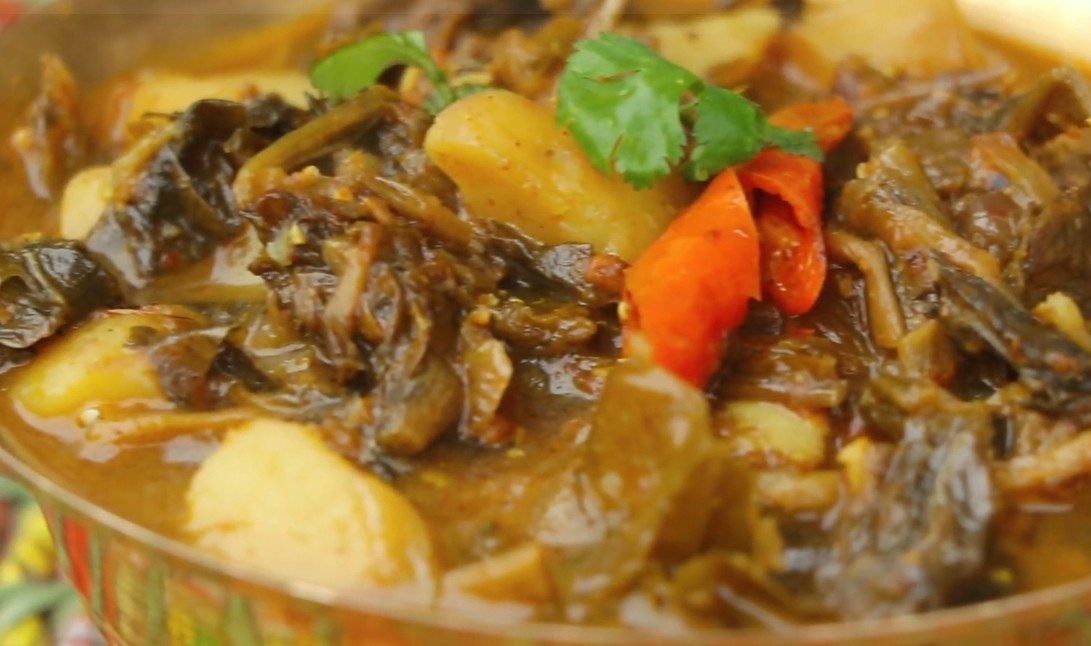gundruk: (23, 14, 1076, 584)
